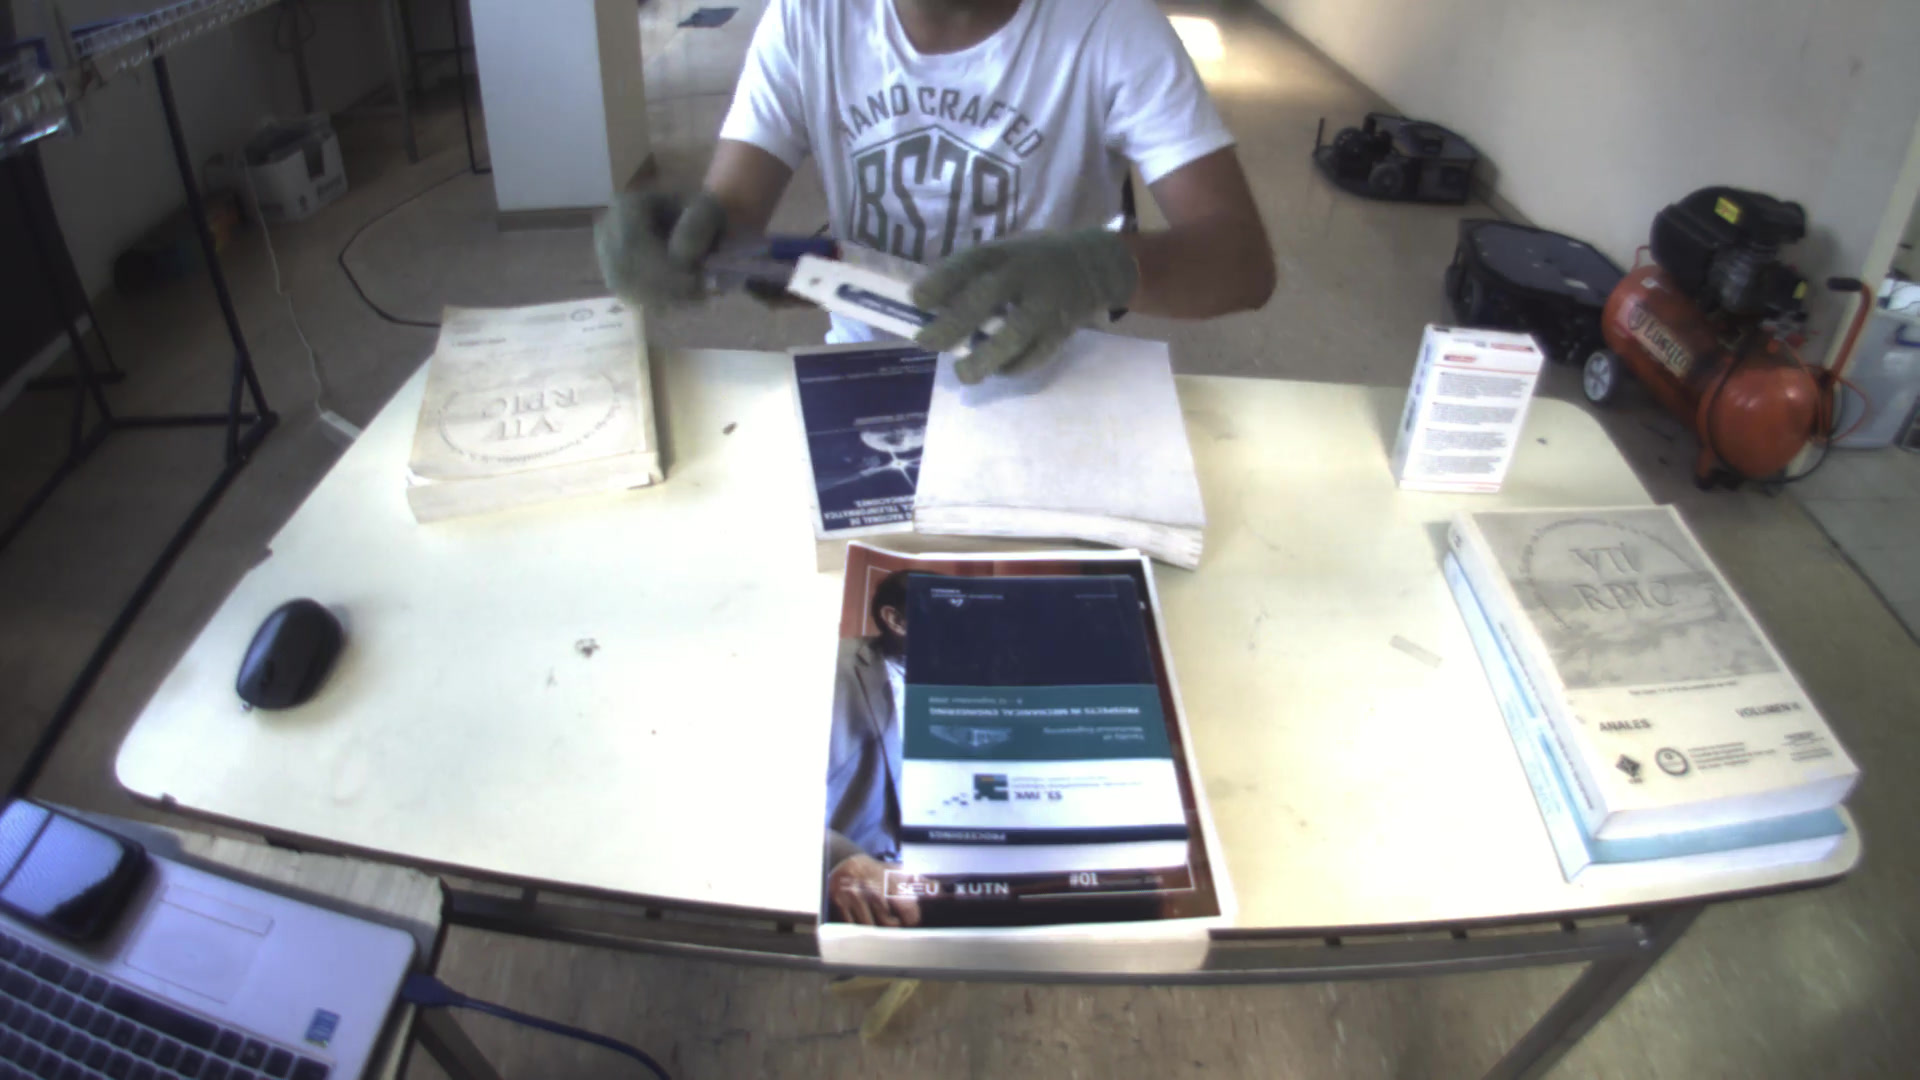hand: (901, 211, 1145, 394), (585, 182, 738, 315)
